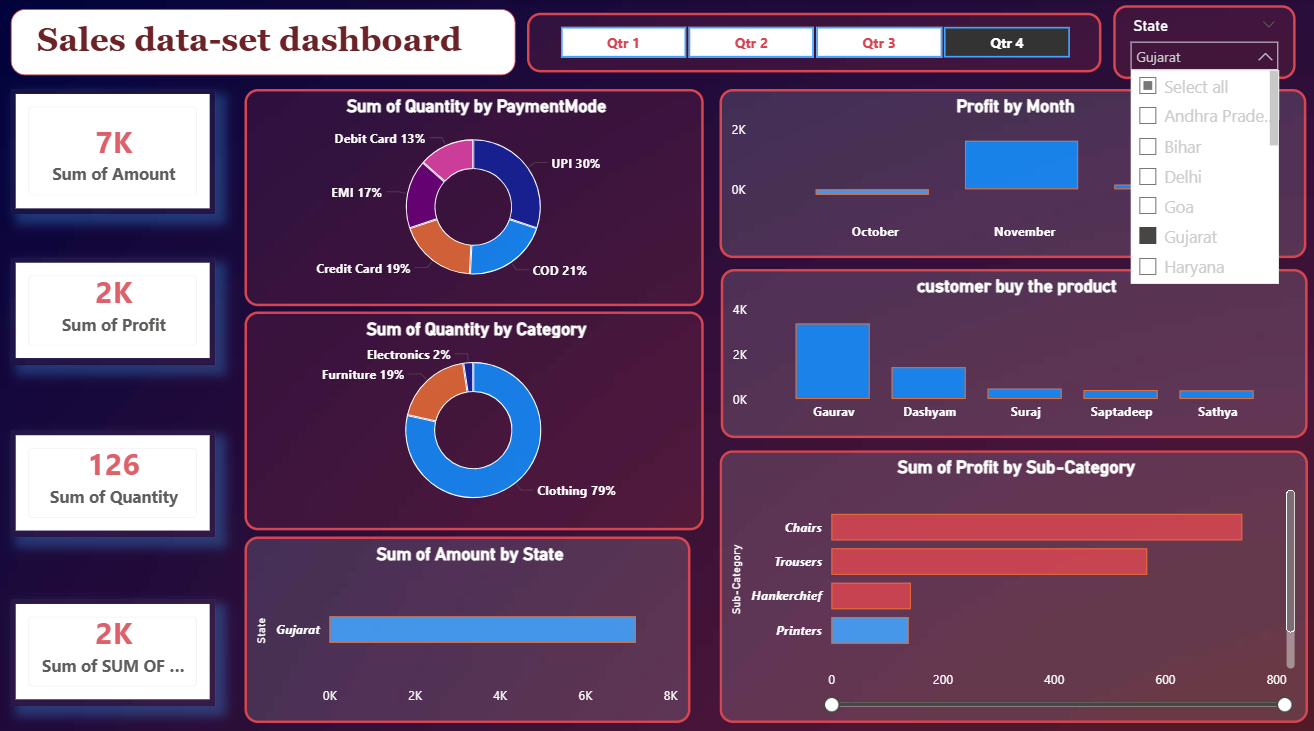

What the dashboard file says about the page in this screenshot:
{"tool":"powerbi","page":{"name":"Page 1","canvas":[1280,720],"ordinal":0},"visuals":[{"type":"textbox","box":[18.1,9.7,487.4,63.9],"z":0},{"type":"columnChart","title":"Profit by Month","fields":{"Category":["Orders.Order Date.Variation.Date Hierarchy.Month"],"Y":["Sum(Details.Profit)"]},"box":[702.6,86.4,566.7,163.3],"z":1000},{"type":"columnChart","title":"customer buy the product","fields":{"Y":["Sum(Details.Amount)"],"Category":["Orders.CustomerName"]},"box":[703.9,260.7,566.7,163.3],"z":2000},{"type":"barChart","fields":{"Y":["Sum(Details.Profit)"],"Category":["Details.Sub-Category"]},"box":[702.6,435,568.1,263.5],"z":3000},{"type":"donutChart","fields":{"Category":["Details.Category"],"Y":["Sum(Details.Quantity)"]},"box":[244.3,301.9,443.2,211.3],"z":4000},{"type":"donutChart","fields":{"Y":["Sum(Details.Quantity)"],"Category":["Details.PaymentMode"]},"box":[244.3,86.4,443.2,209.9],"z":5000},{"type":"cardVisual","fields":{"Data":["Sum(Details.Amount)"]},"box":[17.8,86.4,197.6,120.8],"z":6000},{"type":"cardVisual","fields":{"Data":["Sum(Details.Profit)"]},"box":[17.8,249.7,197.6,102.9],"z":7000},{"type":"cardVisual","fields":{"Data":["Sum(Details.Quantity)"]},"box":[17.8,415.8,197.6,102.9],"z":8000},{"type":"cardVisual","fields":{"Data":["Sum(Details.SUM OF AVG)"]},"box":[17.8,579.1,197.6,102.9],"z":9000},{"type":"barChart","fields":{"Category":["Orders.State"],"Y":["Sum(Details.Amount)"]},"box":[243.7,518.8,430.7,179.8],"z":10000},{"type":"slicer","fields":{"Values":["Orders.Order Date.Variation.Date Hierarchy.Quarter"]},"box":[516,13.7,554.4,57.6],"z":11000},{"type":"slicer","fields":{"Values":["Orders.State"]},"box":[1082.7,5.5,175.6,71],"z":12000}]}

Visuals, with their boxes in screenshot pixels (x1, y1, x2, y2), scaled from the page's 1280x720 canvas onto the 1314x731 screenshot:
textbox: pyautogui.locateOnScreen(19, 10, 519, 75)
"Profit by Month" columnChart: pyautogui.locateOnScreen(721, 88, 1303, 254)
"customer buy the product" columnChart: pyautogui.locateOnScreen(723, 265, 1304, 430)
barChart - Sum(Details.Profit) x Details.Sub-Category: pyautogui.locateOnScreen(721, 442, 1304, 709)
donutChart - Details.Category x Sum(Details.Quantity): pyautogui.locateOnScreen(251, 307, 706, 521)
donutChart - Sum(Details.Quantity) x Details.PaymentMode: pyautogui.locateOnScreen(251, 88, 706, 301)
cardVisual - Sum(Details.Amount): pyautogui.locateOnScreen(18, 88, 221, 210)
cardVisual - Sum(Details.Profit): pyautogui.locateOnScreen(18, 254, 221, 358)
cardVisual - Sum(Details.Quantity): pyautogui.locateOnScreen(18, 422, 221, 527)
cardVisual - Sum(Details.SUM OF AVG): pyautogui.locateOnScreen(18, 588, 221, 692)
barChart - Orders.State x Sum(Details.Amount): pyautogui.locateOnScreen(250, 527, 692, 709)
slicer - Orders.Order Date.Variation.Date Hierarchy.Quarter: pyautogui.locateOnScreen(530, 14, 1099, 72)
slicer - Orders.State: pyautogui.locateOnScreen(1111, 6, 1292, 78)
